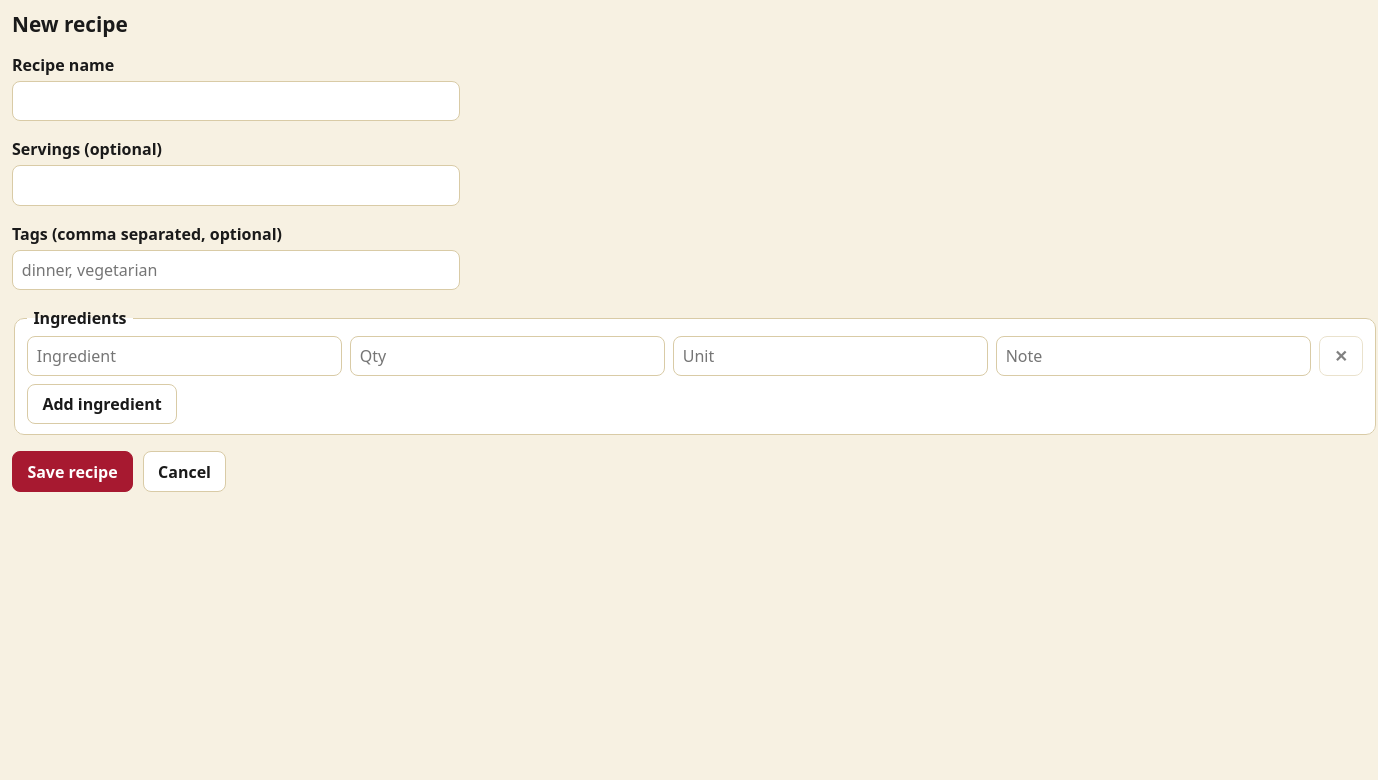
Test: RecipeForm › refuses to save without a name
In the field named "Ingredient 1 name": (184, 356) [27,336,342,376], type "flour"
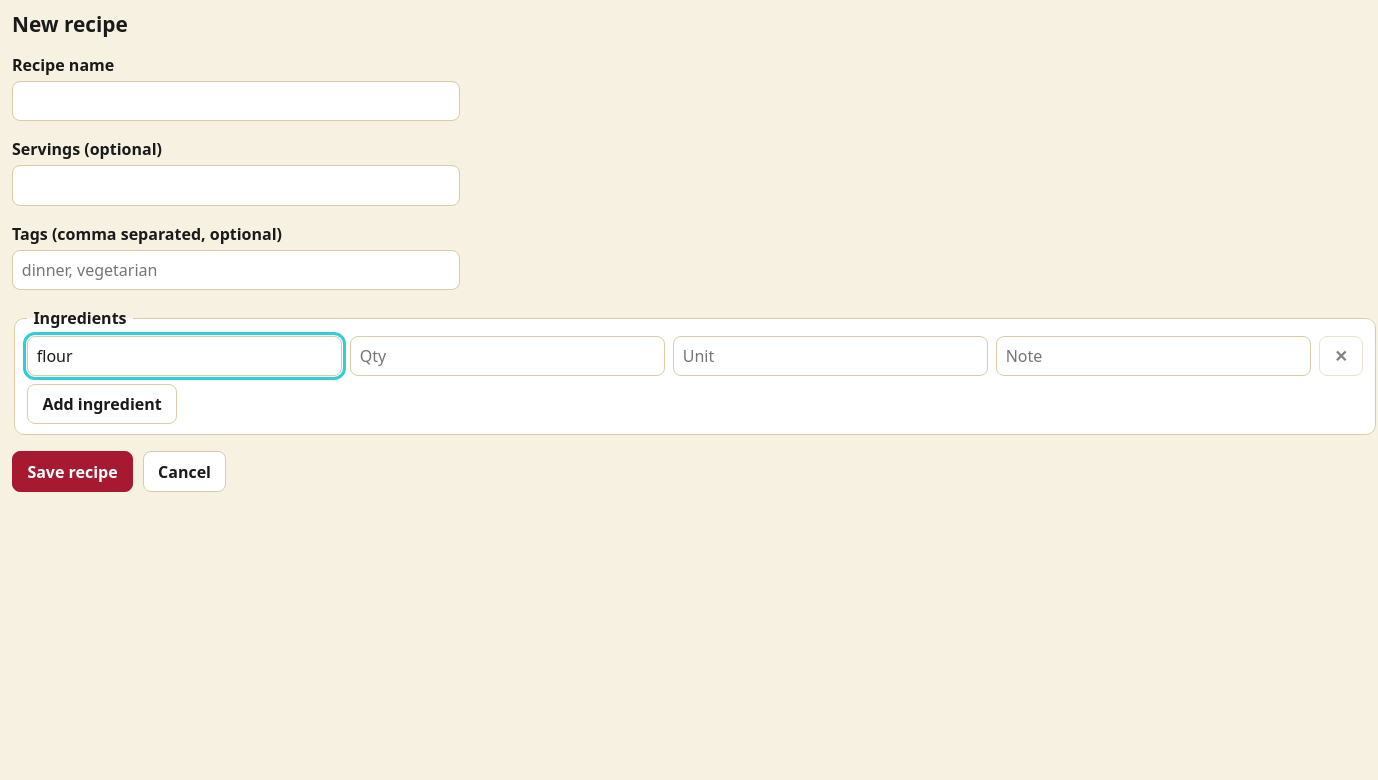
Click the button "Save recipe": (73, 472) [12,451,133,492]
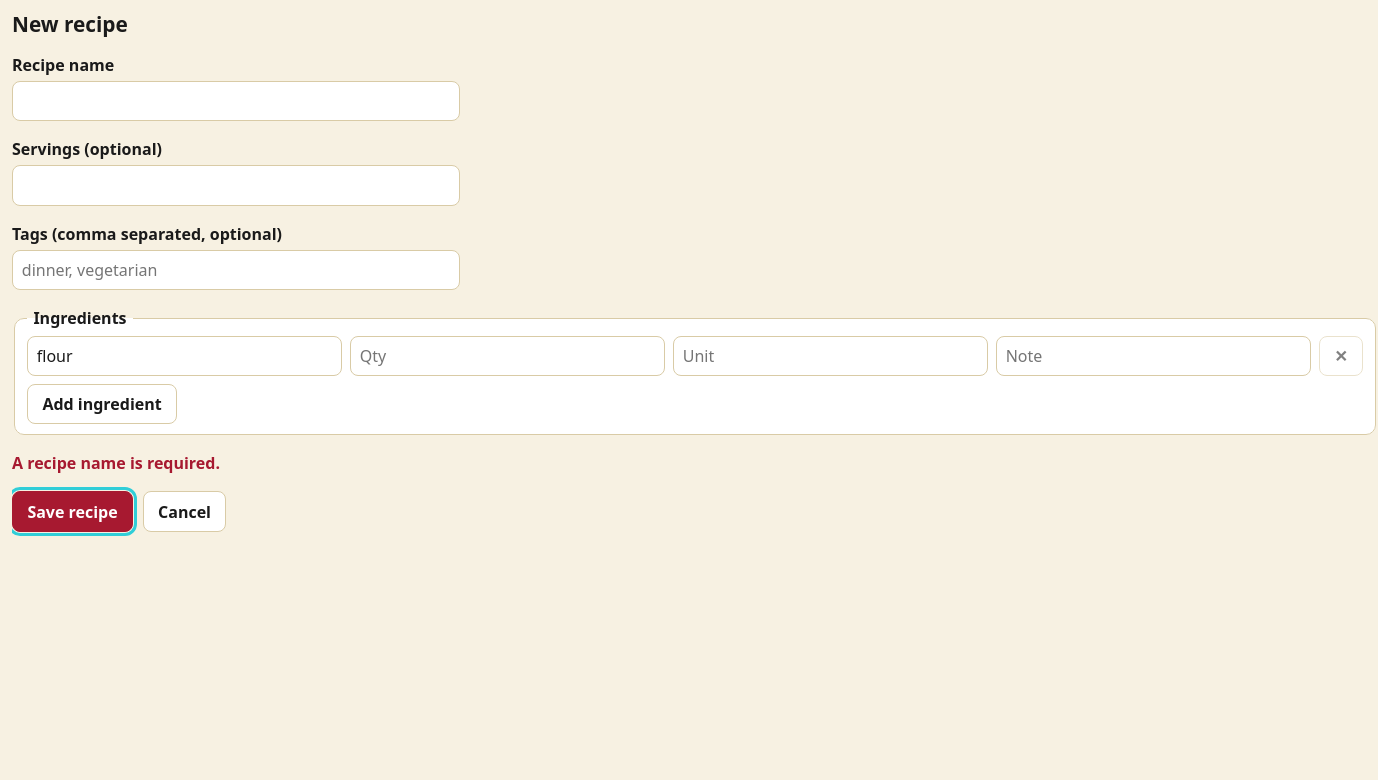
Now the message shows "name is required", box [12,452,220,474]
